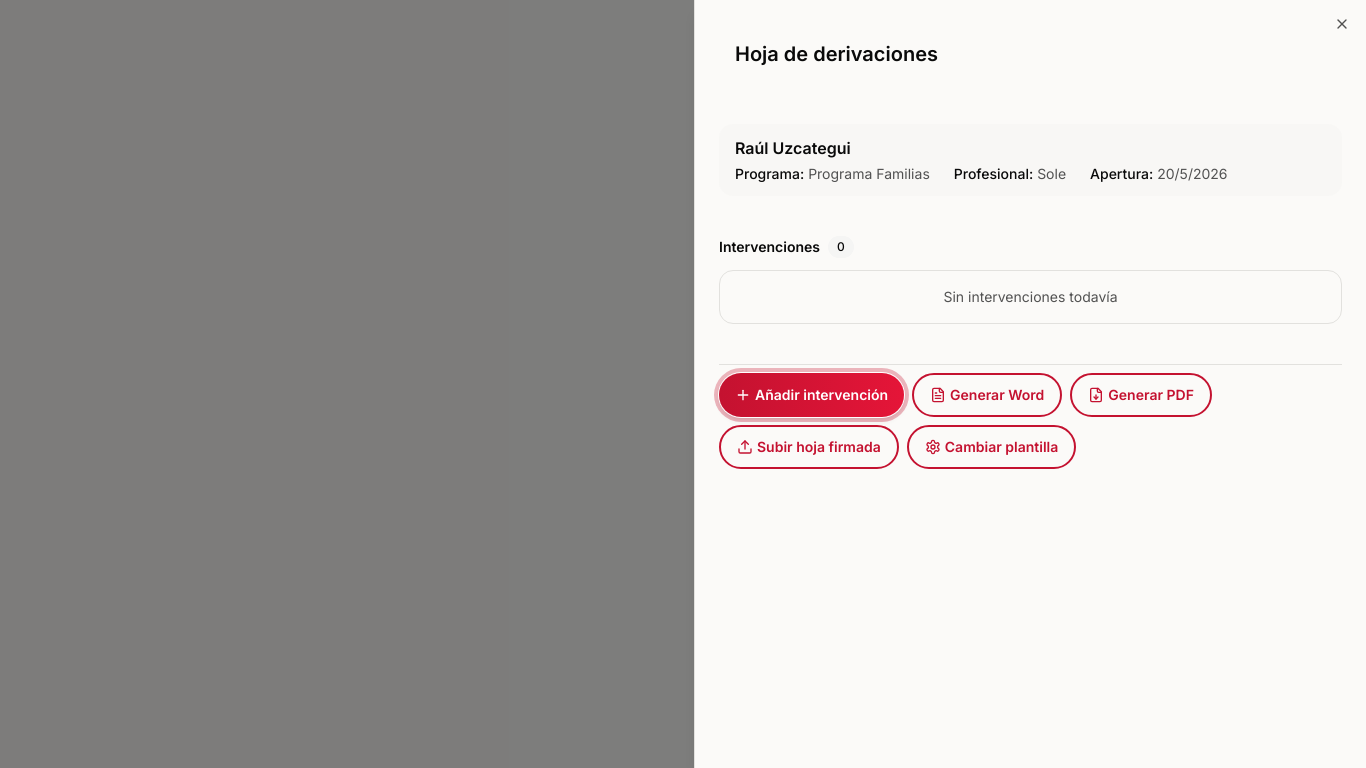
Test: HojaDrawer — template management modal › opens template modal when 'Cambiar plantilla' is clicked
Click the button "Cambiar plantilla" at (992, 447), box x1=907 y1=425 x2=1076 y2=469
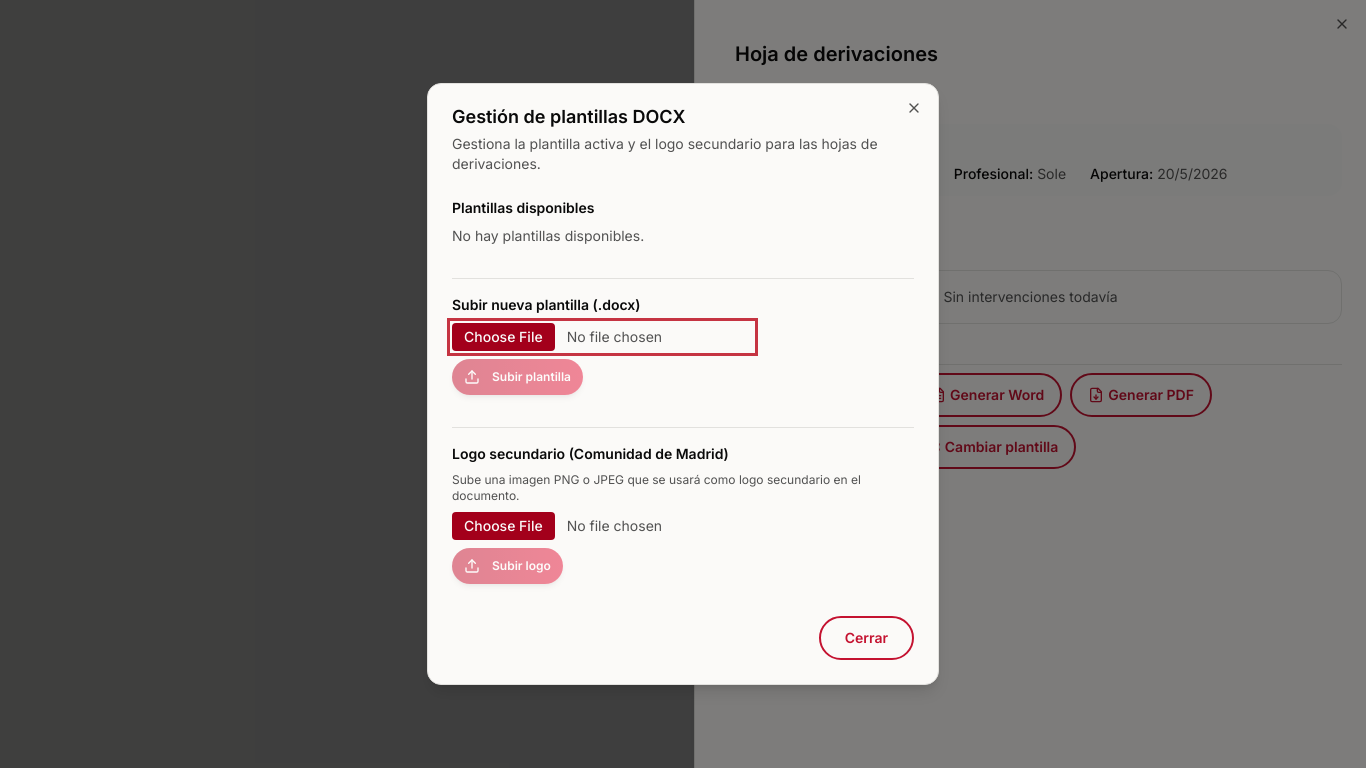
Expected: the dialog "Gestión de plantillas" is shown, x1=427 y1=83 x2=939 y2=685
